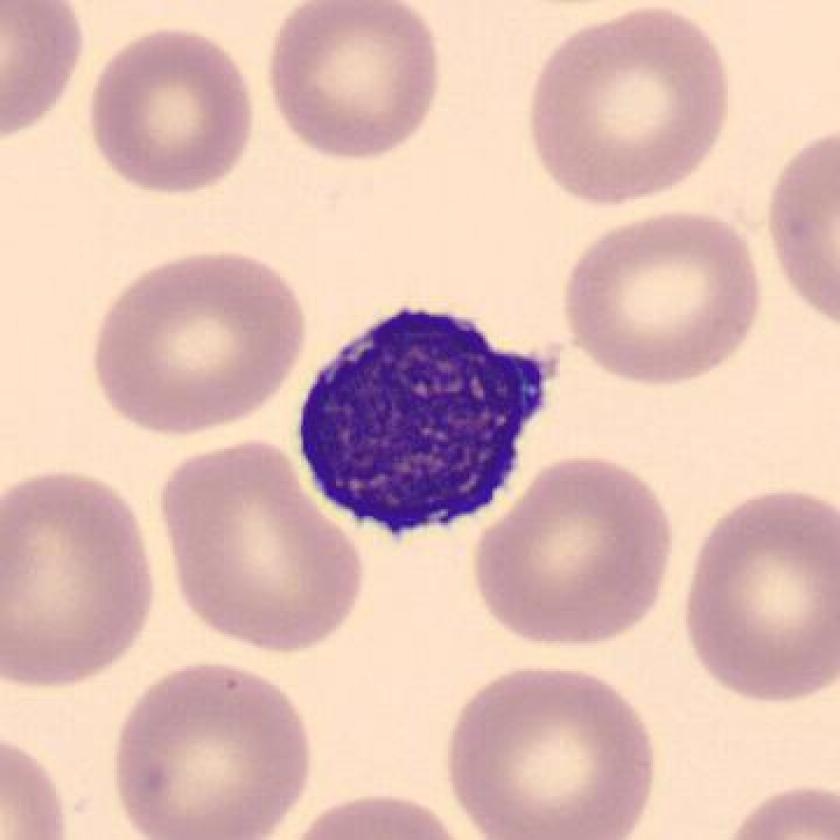lymphocyte: (283, 293, 566, 561)
